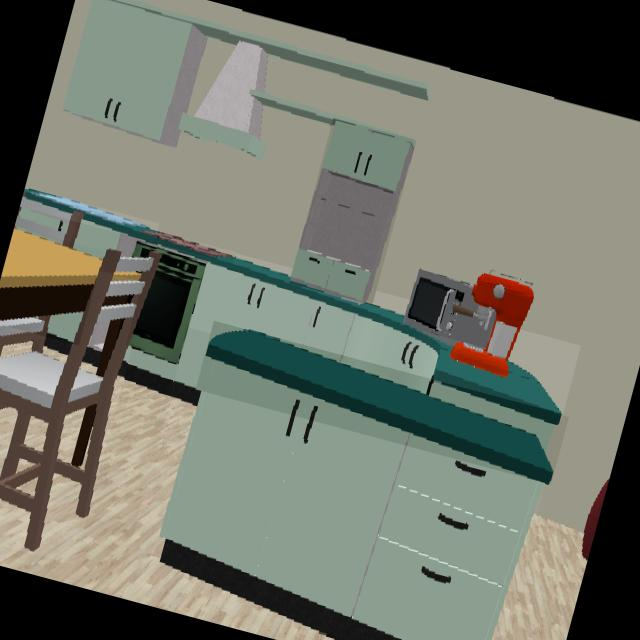cabinet: (159, 268, 542, 640), (299, 119, 414, 301), (62, 0, 192, 143)
chair: (0, 279, 143, 553)
countertop: (158, 234, 560, 424), (204, 330, 554, 484)
microwave: (404, 269, 495, 338)
oven: (133, 250, 202, 359)
sink: (22, 188, 155, 237)
stove: (154, 236, 233, 261)
table: (0, 227, 101, 320)
